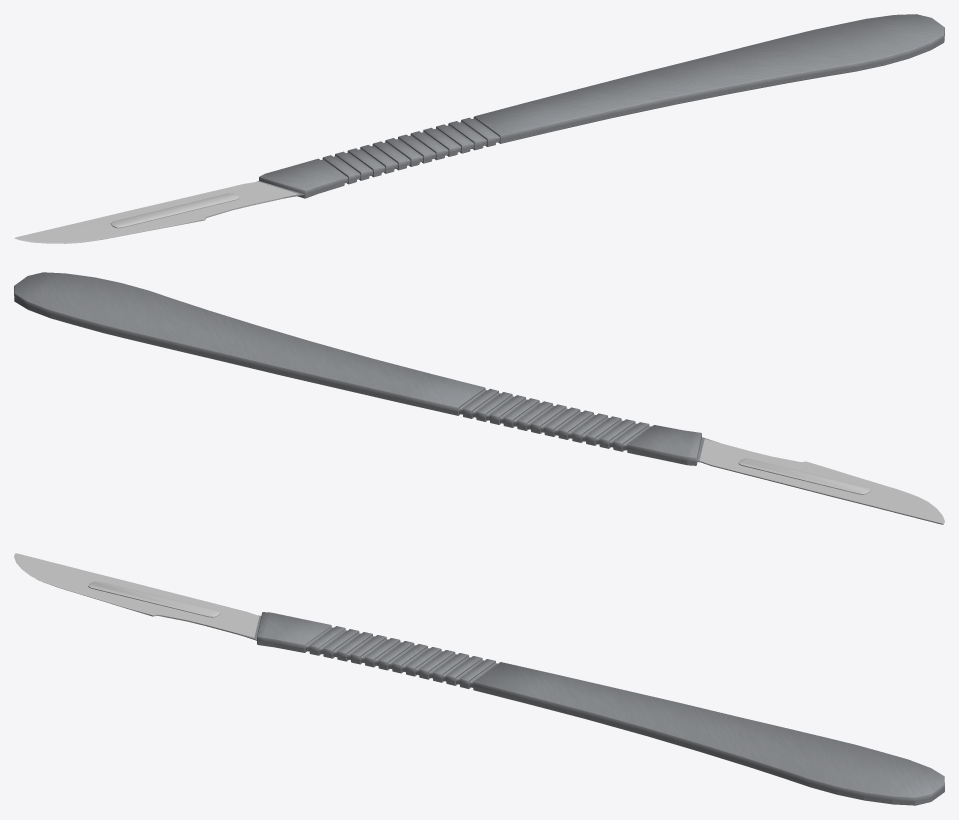
Rendered from Scalpel.fbx.
3 views of the same model, one above another, from view 1: azimuth 30°, elevation 25°; view 2: azimuth 150°, elevation 25°; view 3: azimuth 330°, elevation 25° (orthographic). The views are drawn at different scales.
Visible parts, largest first — view 1: scalpel_NEW_handle, scalpel_NEW_blade; view 2: scalpel_NEW_handle, scalpel_NEW_blade; view 3: scalpel_NEW_handle, scalpel_NEW_blade.
Part boxes in pixels (box(x1,y1,x2,y2)): scalpel_NEW_handle: box(256, 14, 944, 198); scalpel_NEW_blade: box(14, 181, 298, 243); scalpel_NEW_handle: box(14, 272, 718, 465); scalpel_NEW_blade: box(699, 439, 944, 524); scalpel_NEW_handle: box(238, 612, 944, 805); scalpel_NEW_blade: box(14, 553, 259, 637).
Bounding box in the file's own units: 12.39 × 0.1118 × 1.09.
